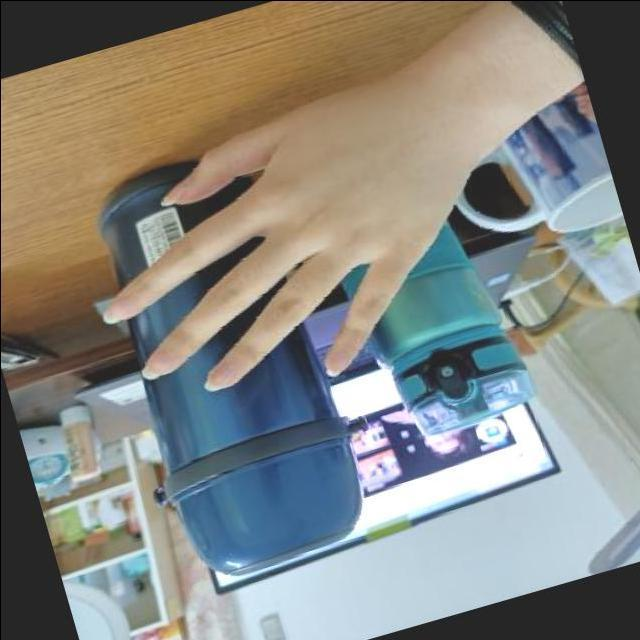hand: (84, 67, 501, 396)
